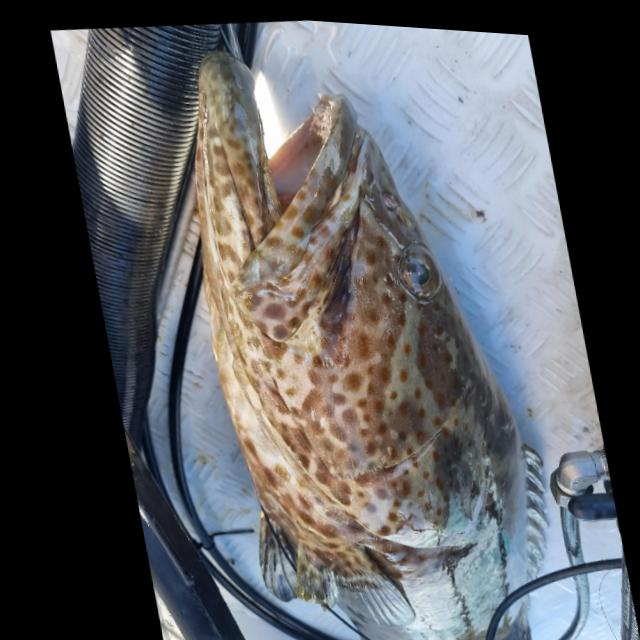Groupers: (155, 22, 573, 640)
